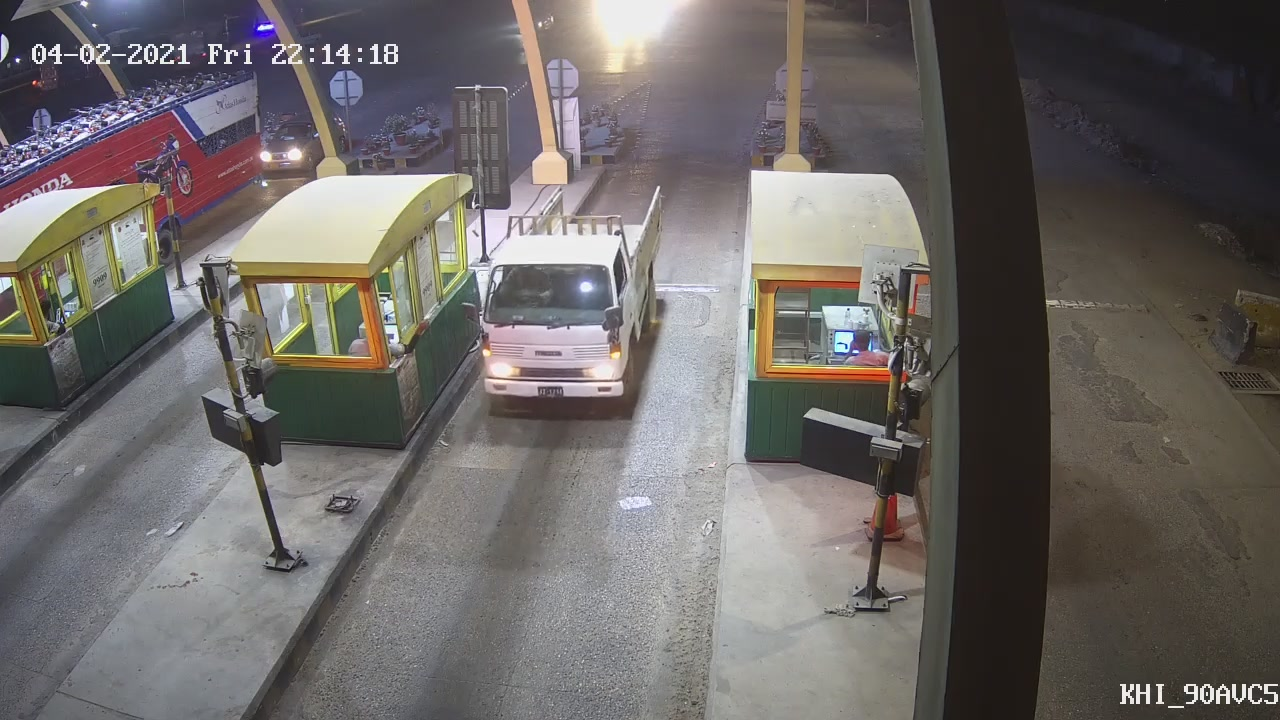F2: (460, 175, 668, 411)
